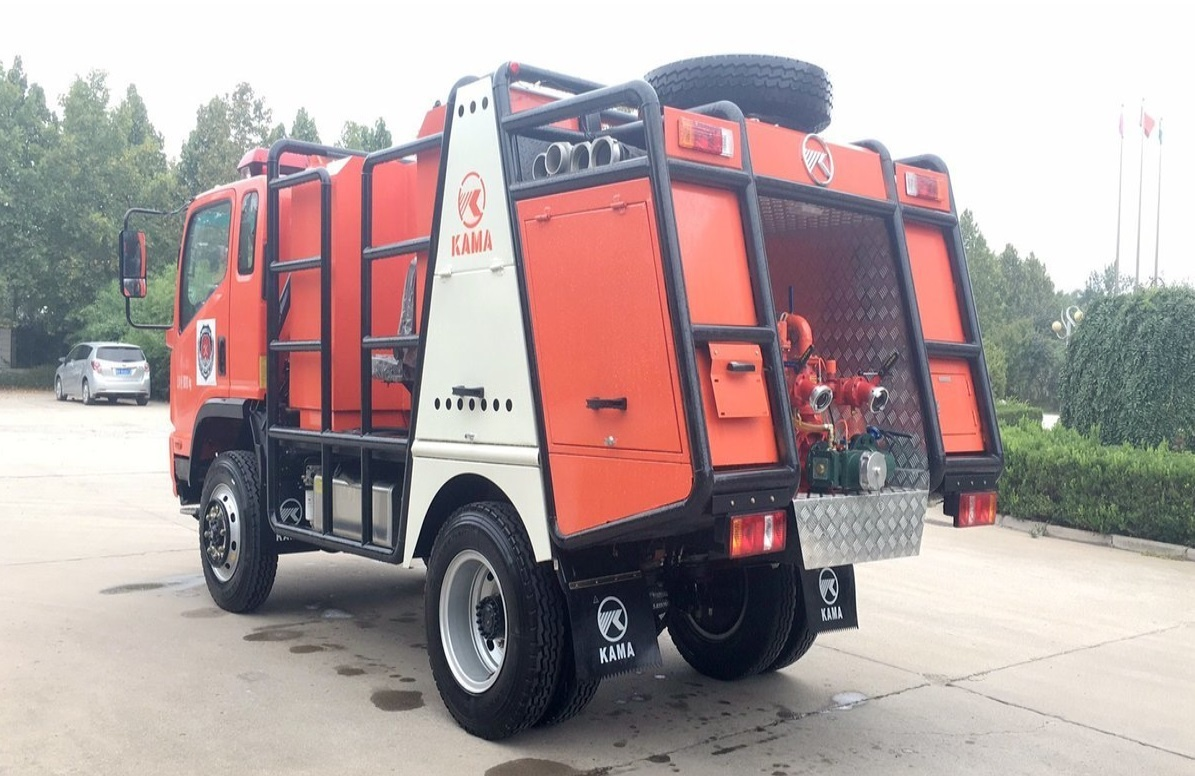fire engine: (163, 69, 993, 722)
